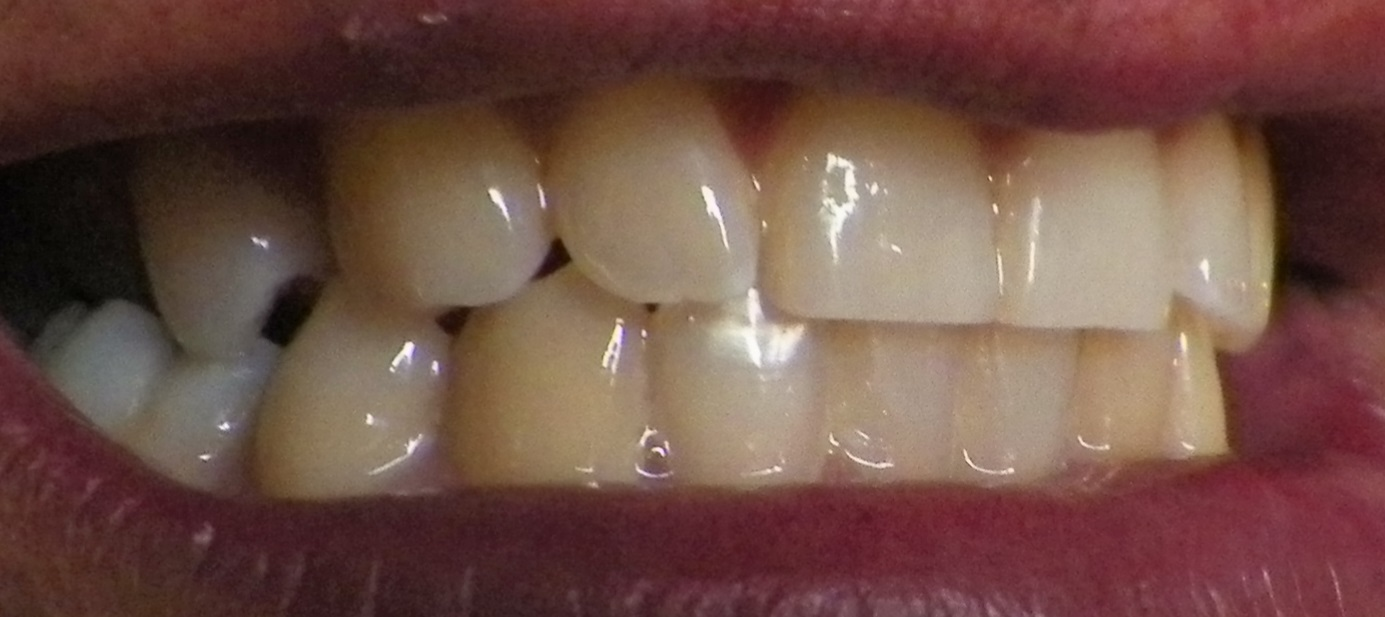boca: (46, 103, 1276, 487)
